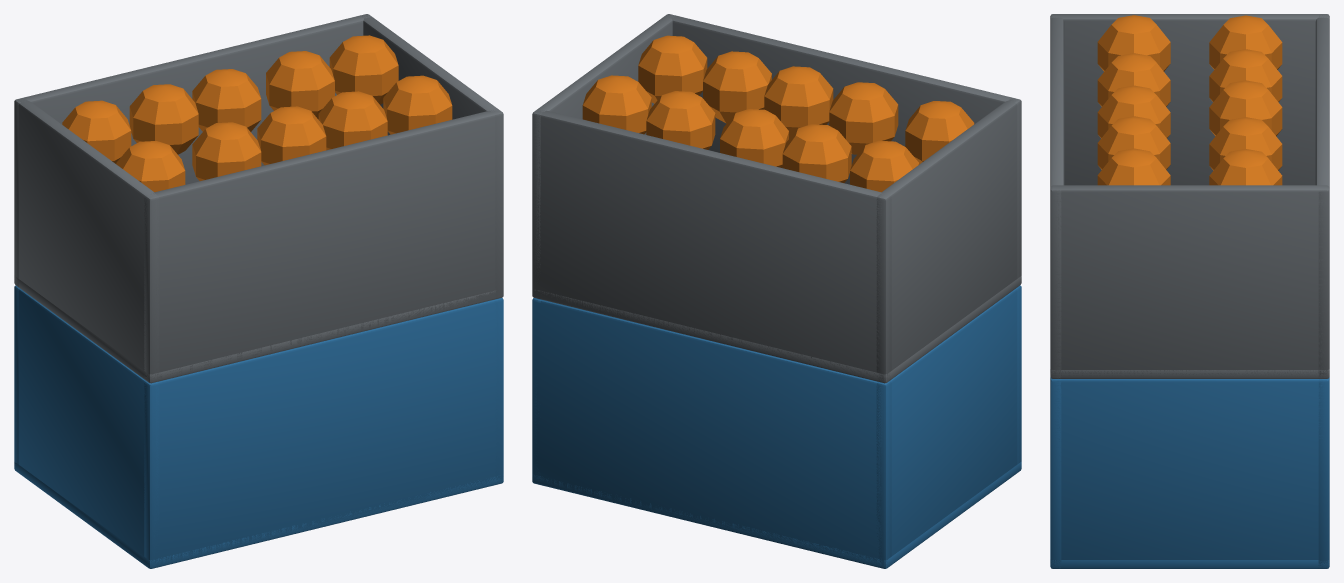
Rendered from marlin_crate.glb.
3 views of the same model, side by side, from view 1: azimuth 30°, elevation 25°; view 2: azimuth 150°, elevation 25°; view 3: azimuth 270°, elevation 25° (orthographic). The views are drawn at different scales.
Visible parts, largest first — view 1: marlin_crate; view 2: marlin_crate; view 3: marlin_crate.
Boxes of the visible parts, left/top/right/bottom form: marlin_crate: left=14, top=14, right=503, bottom=568; marlin_crate: left=532, top=14, right=1021, bottom=568; marlin_crate: left=1050, top=14, right=1329, bottom=568.
Size of the model in its own units: 0.6 by 0.625 by 0.4.
